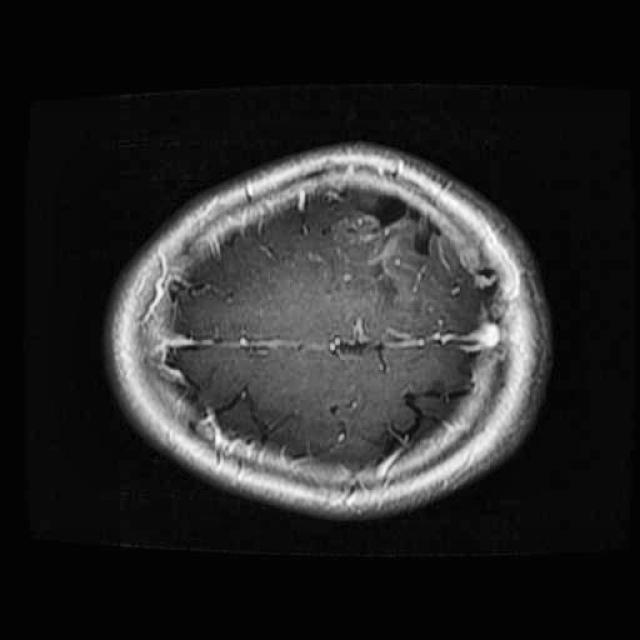Non-Tumor: (332, 158, 498, 309)
